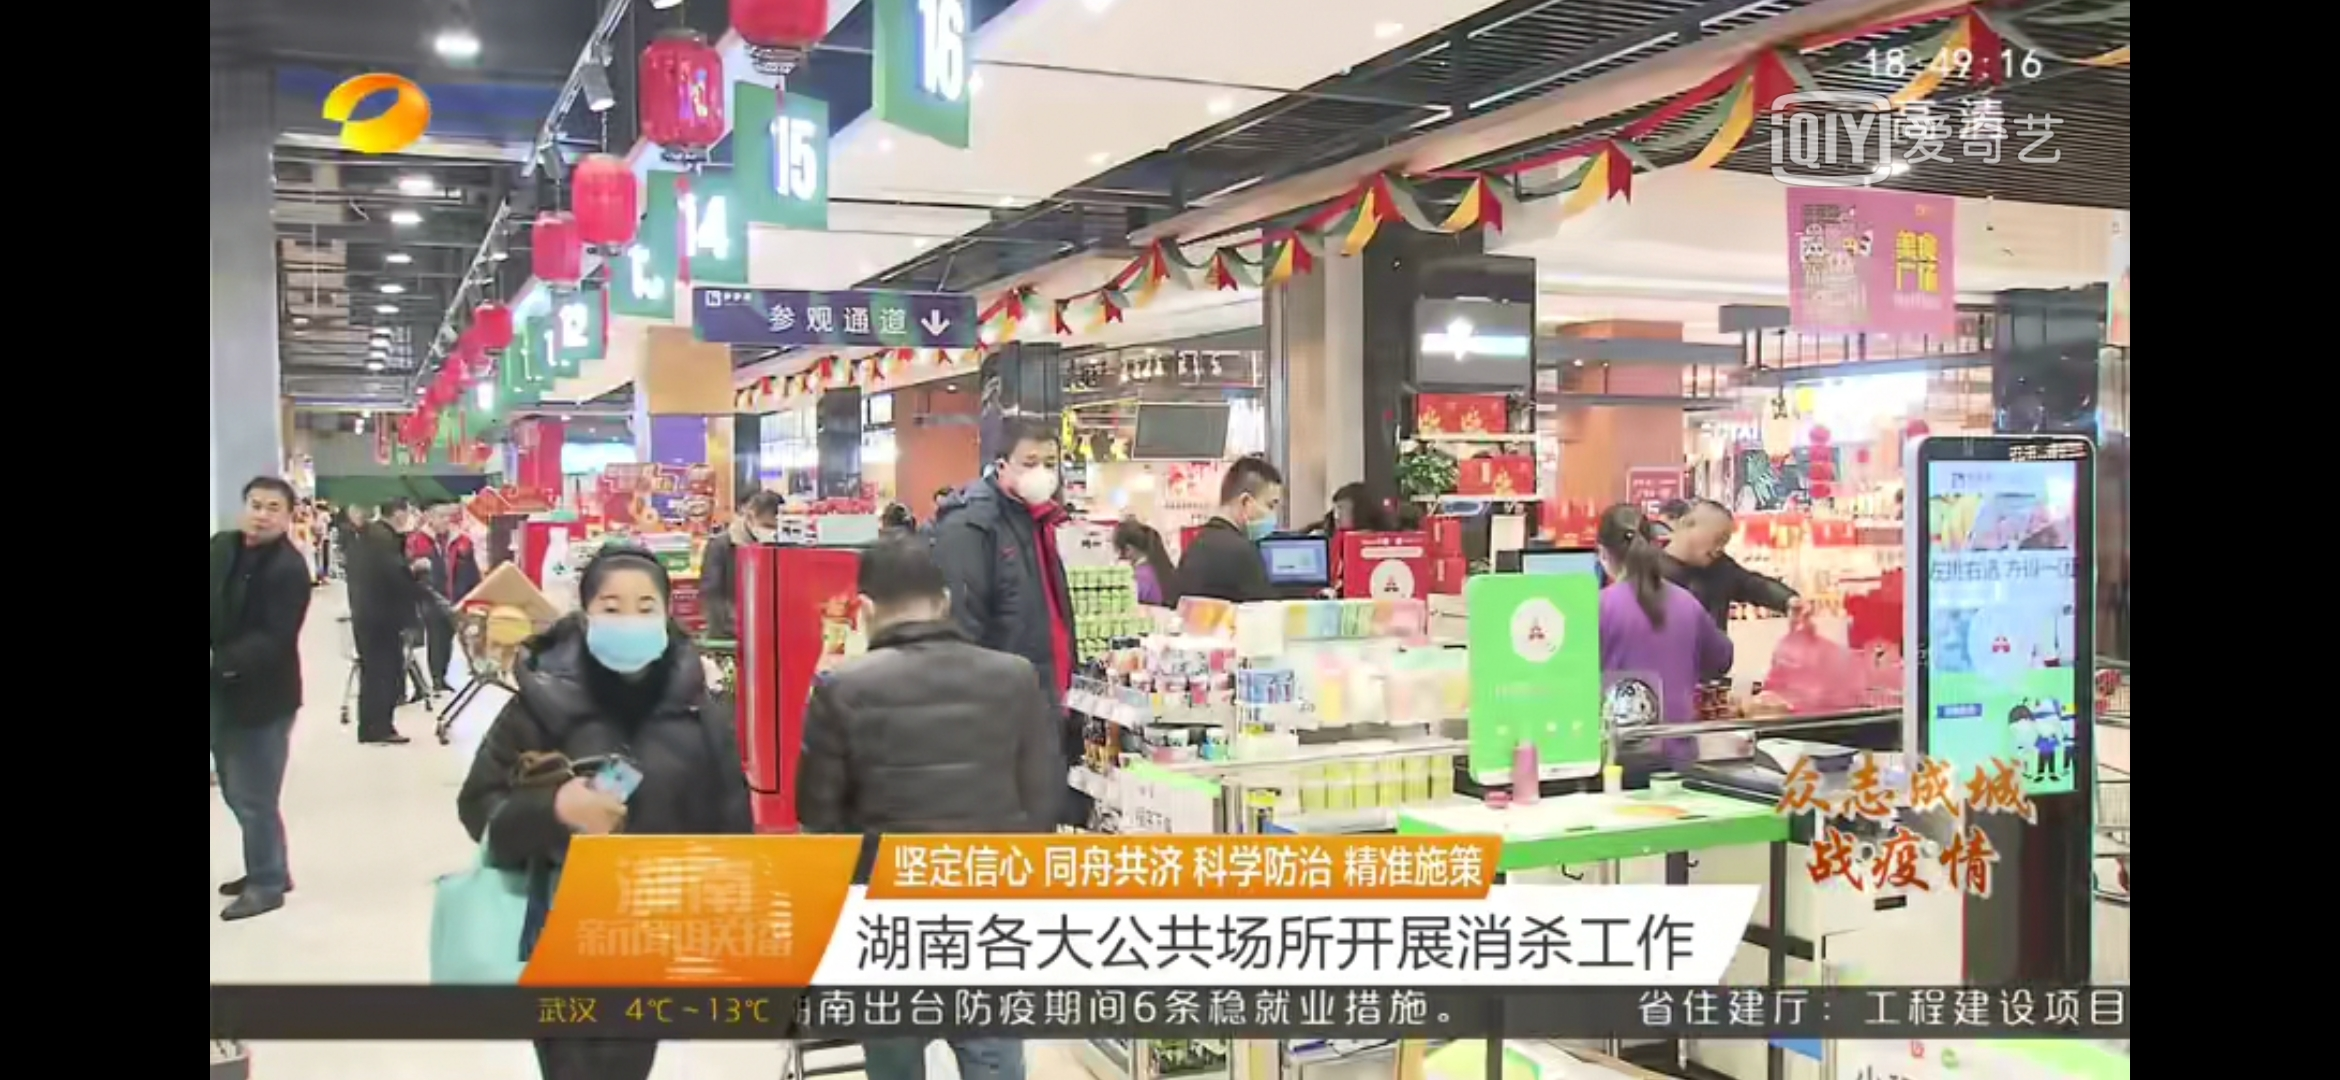correctlyWear: (584, 582, 673, 679), (1003, 442, 1063, 509), (1239, 477, 1282, 547), (746, 501, 780, 541), (392, 503, 413, 536)
noWear: (1679, 509, 1731, 568), (240, 489, 294, 541), (433, 506, 452, 533)
